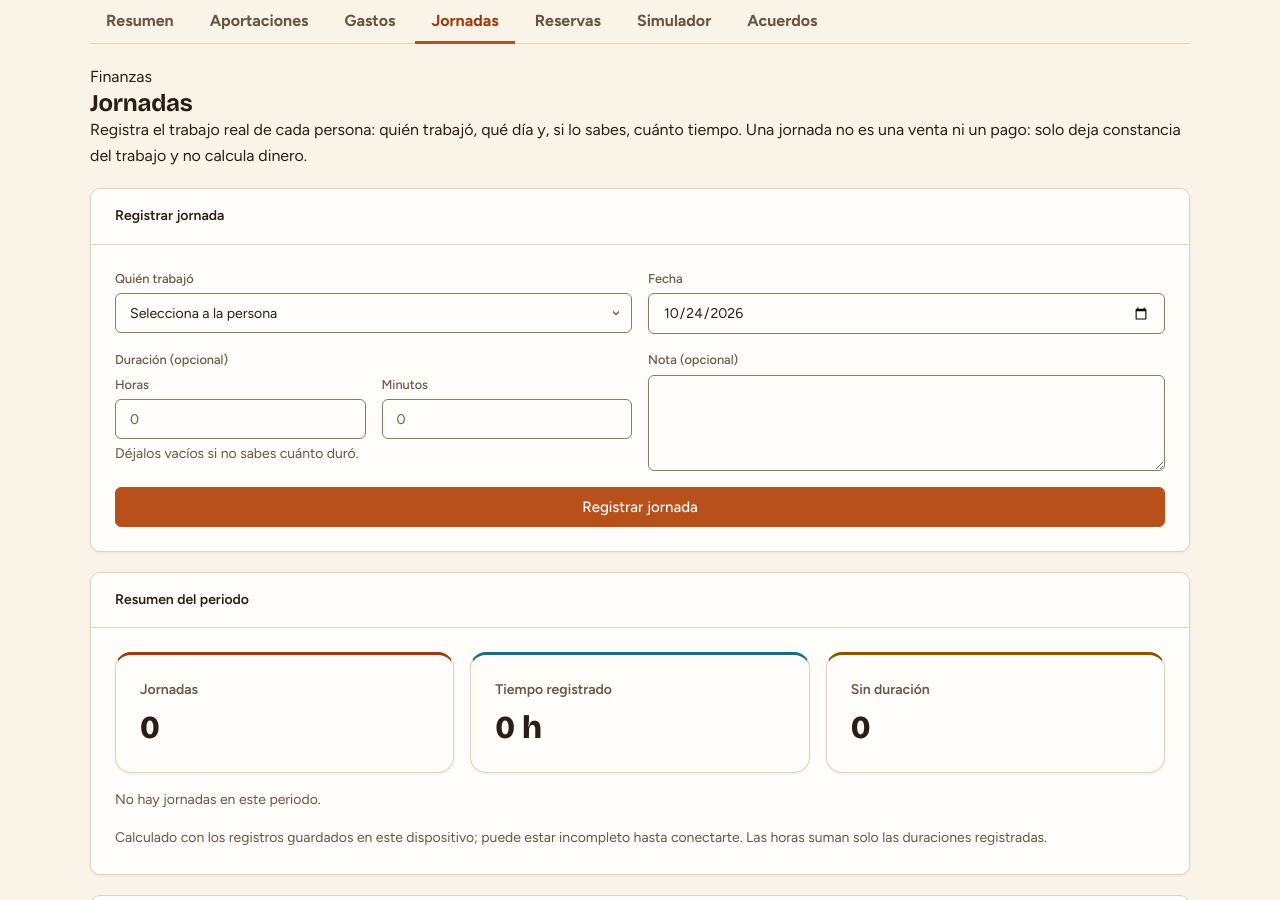
Test: work shifts screen: create › submits the calendar date, integer minutes and a trimmed note
Select "Ana" in the dropdown with id "work-shift-member": {"x": 374, "y": 313} [115, 293, 632, 333]
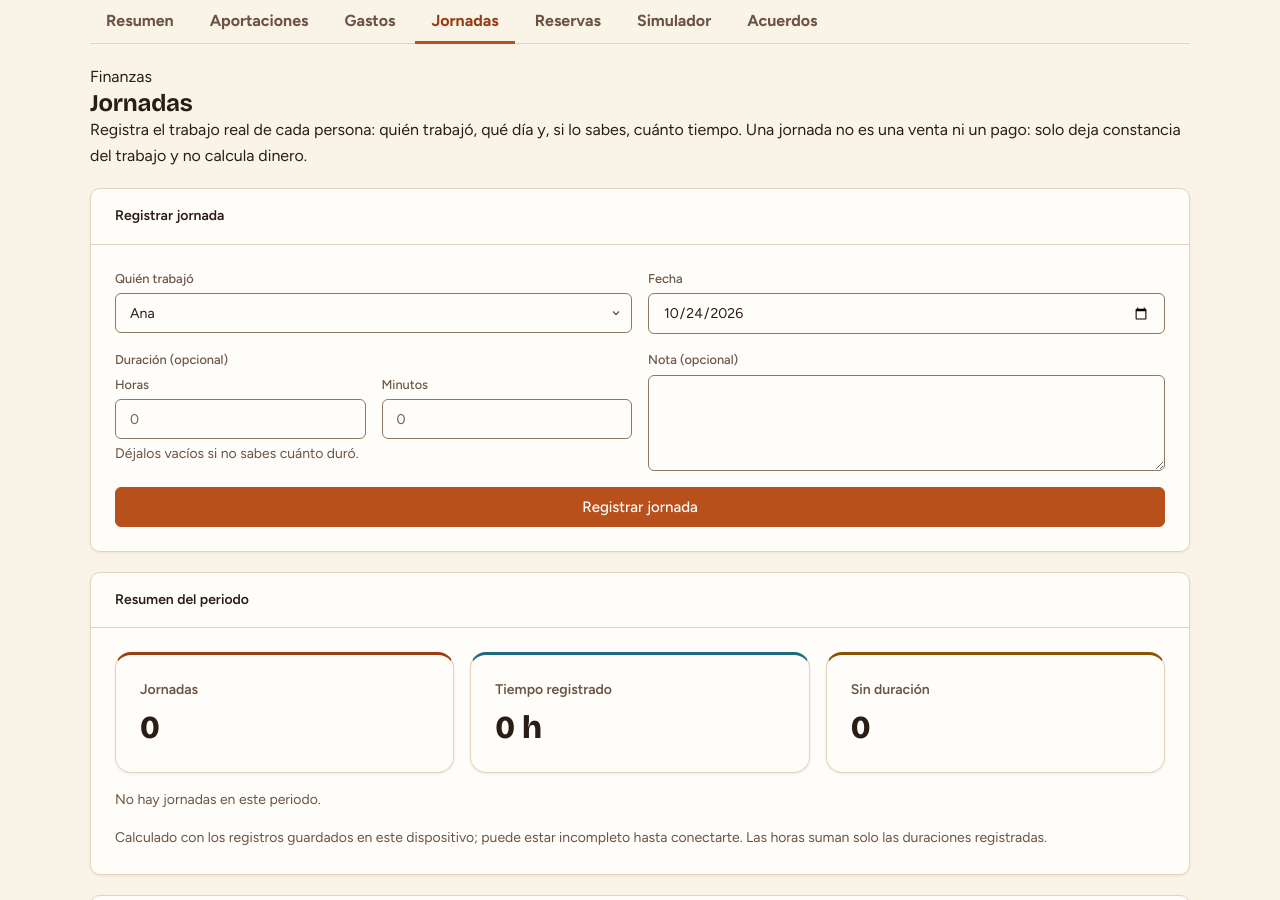
In the date field with id "work-shift-date": {"x": 906, "y": 314} [648, 293, 1165, 334], type "2026-10-01"
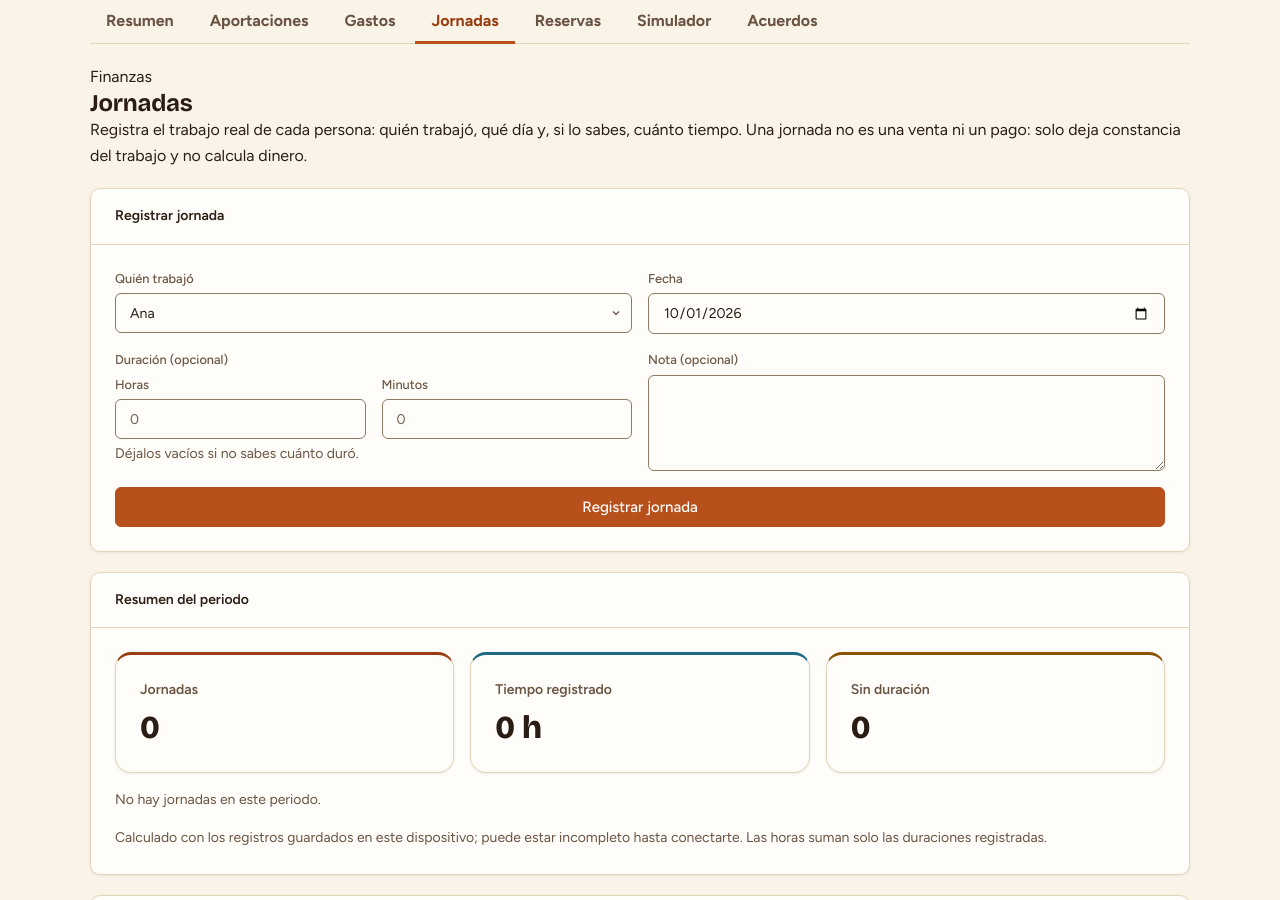
In the field with id "work-shift-duration-hours": {"x": 240, "y": 419} [115, 399, 366, 439], type "8"
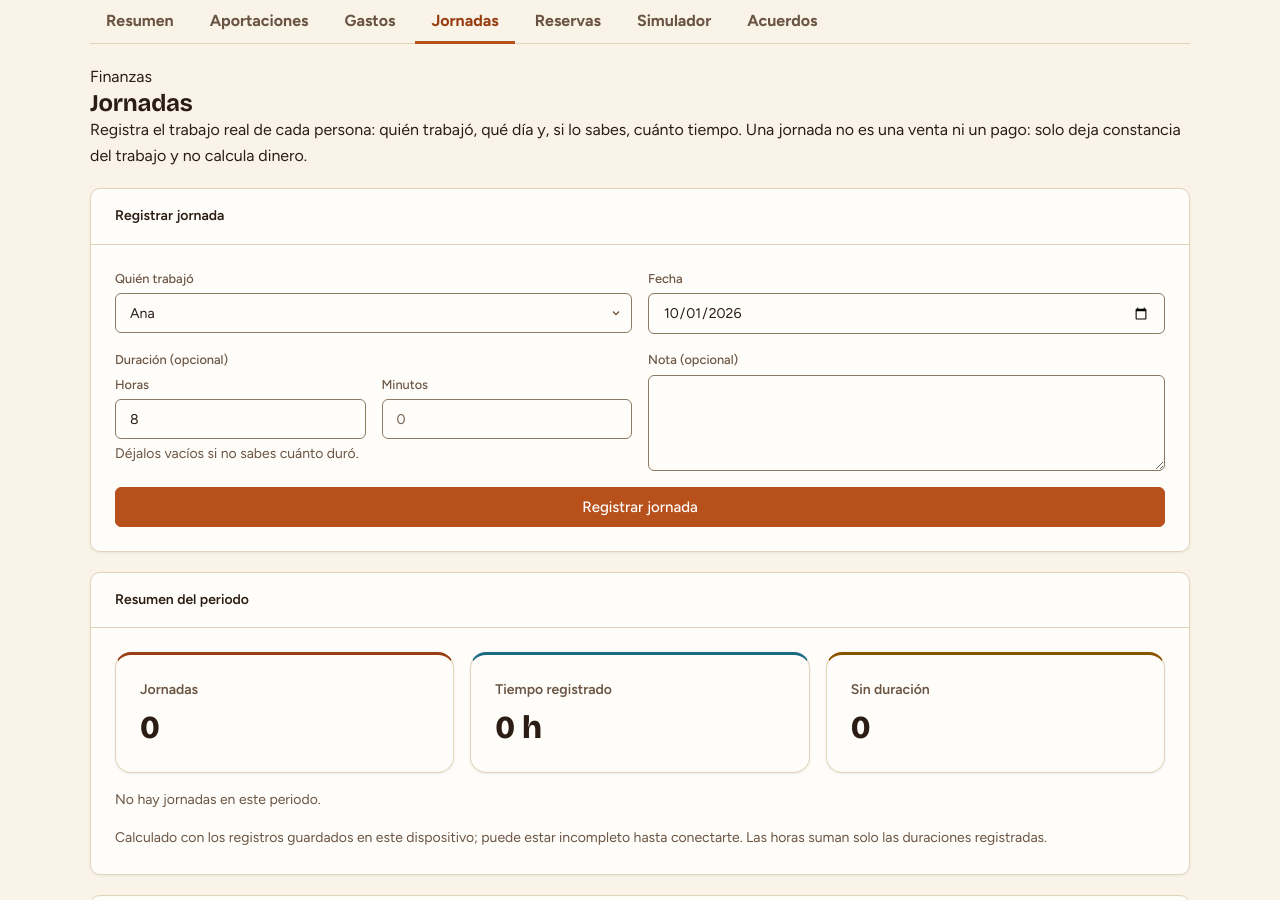
In the field with id "work-shift-duration-minutes": {"x": 507, "y": 419} [382, 399, 632, 439], type "30"
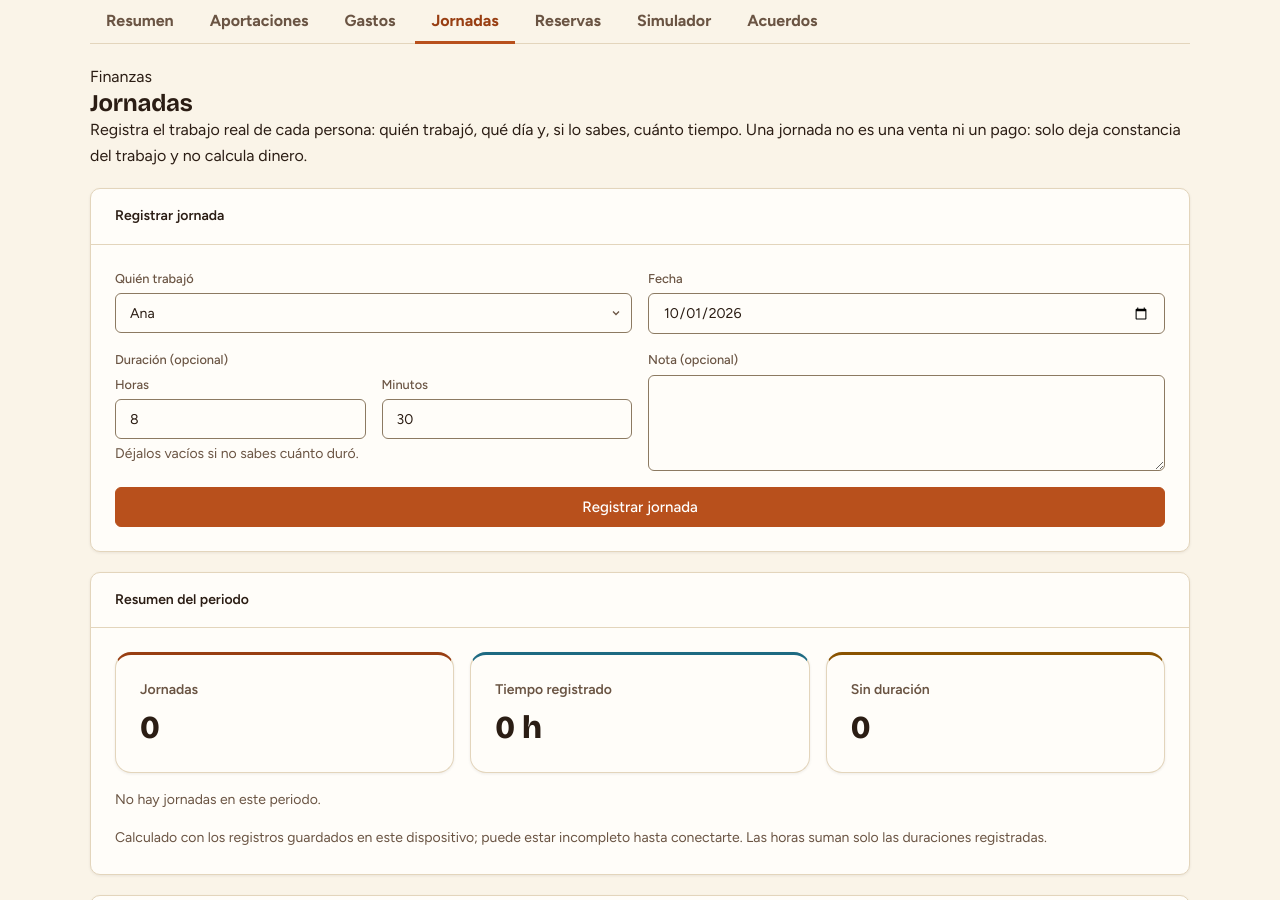
In the text box with id "work-shift-note": {"x": 906, "y": 423} [648, 375, 1165, 471], type "  Turno completo  "
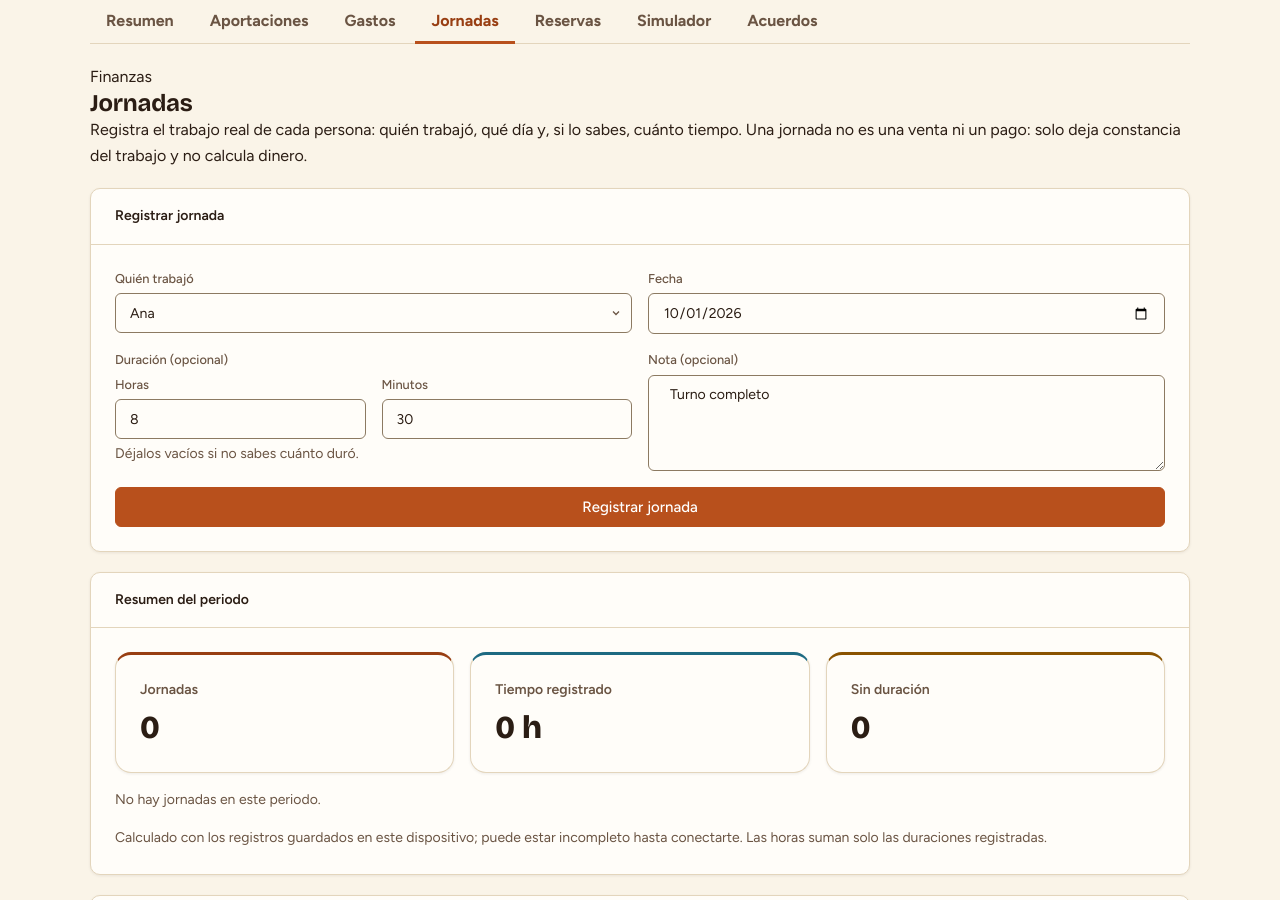
Submit the form with test id "create-form", box [115, 269, 1165, 527]
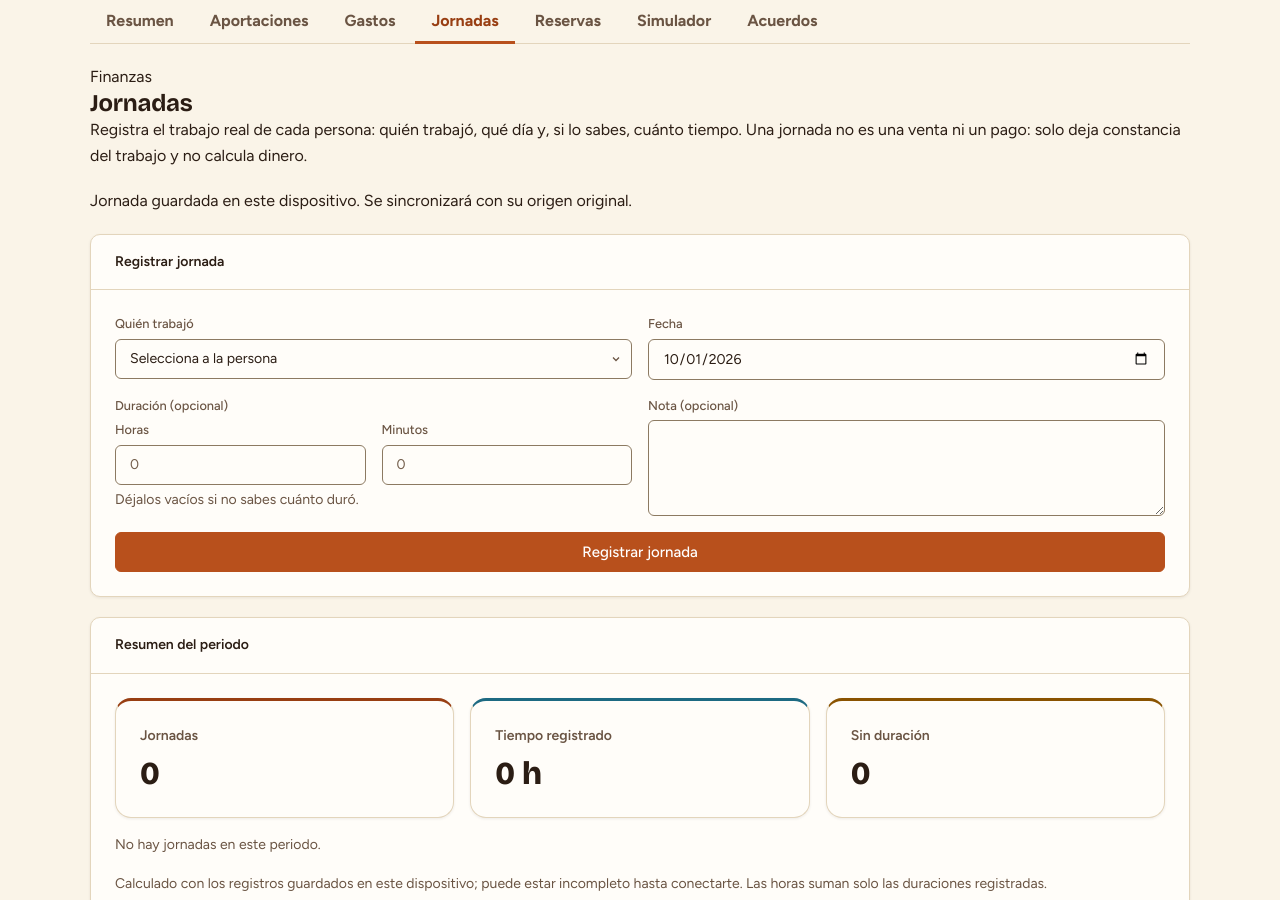
Now the text "Jornada guardada en este dispositivo" is shown, box [90, 191, 632, 210]
Now the field with id "work-shift-duration-hours" is empty, box [115, 445, 366, 485]
